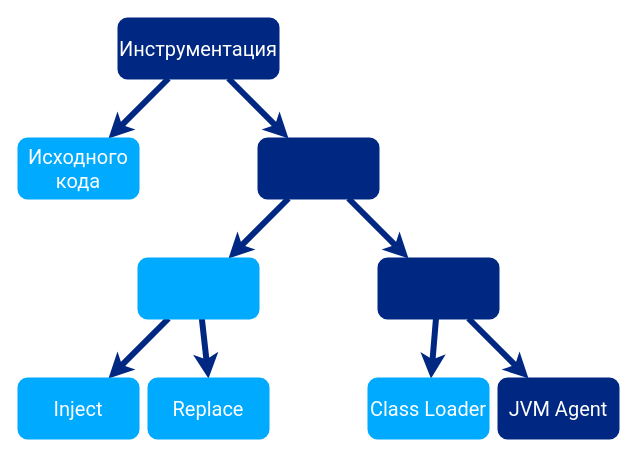
The diagram is 636 pixels wide and 456 high, and some of its shapes have lost their labels. Here are the shapes that lost their labels. From the top down, the centre of each, then its label:
At (x=318, y=168): "JVM Byte-кода".
At (x=198, y=288): "Offline".
At (x=438, y=288): "На лету".
